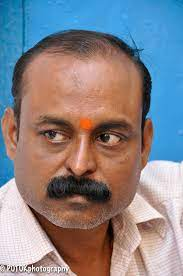s.black: (94, 148, 137, 196)
